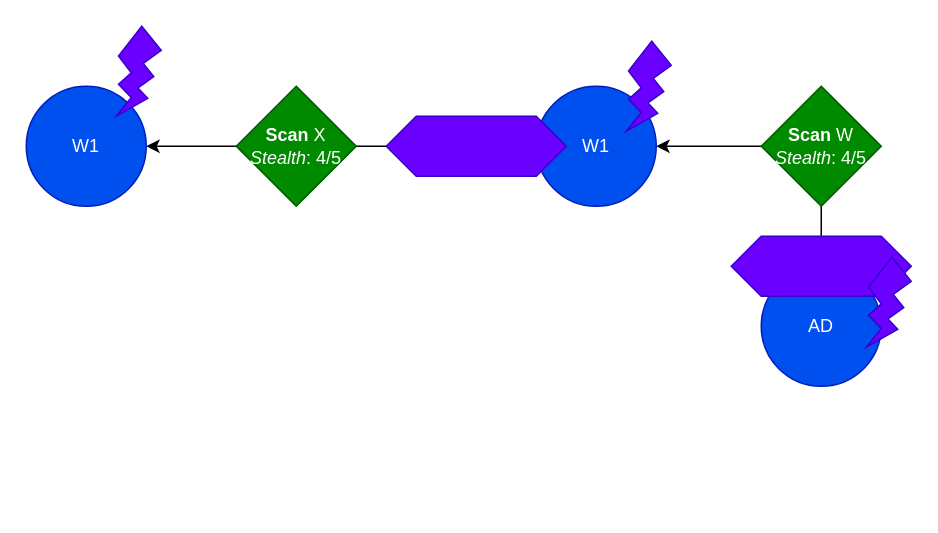
This 938x533 diagram has some shape labels left out. Each missing label, with the centre of its shape:
"Vuln W Stealth : 4/5" belongs at pixel 820 265.
"Vuln X Stealth : 1/5" belongs at pixel 475 145.
